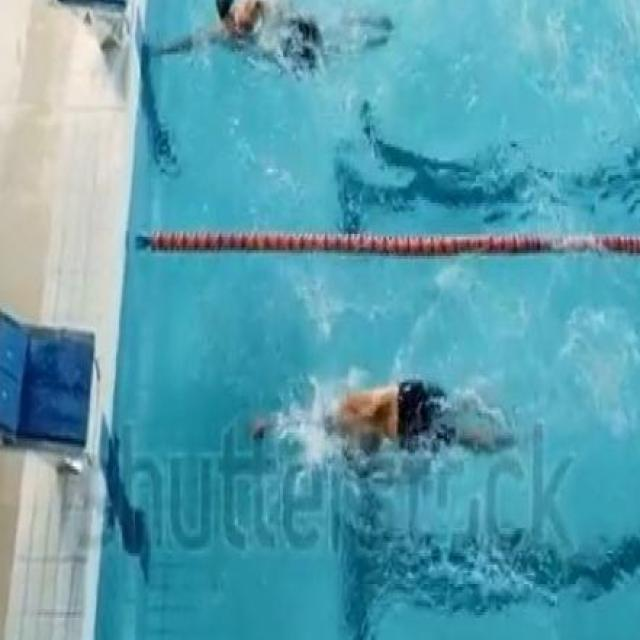Swimming: (246, 386, 519, 454), (194, 0, 393, 59)
